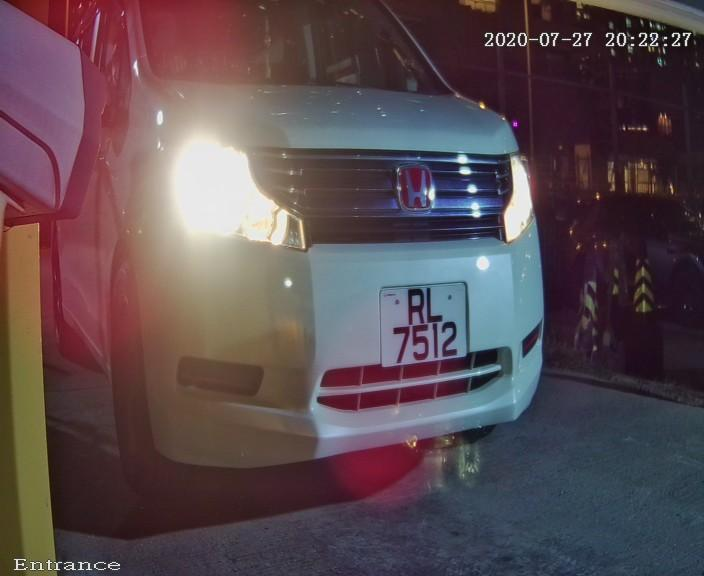privatecar: (54, 1, 569, 528)
